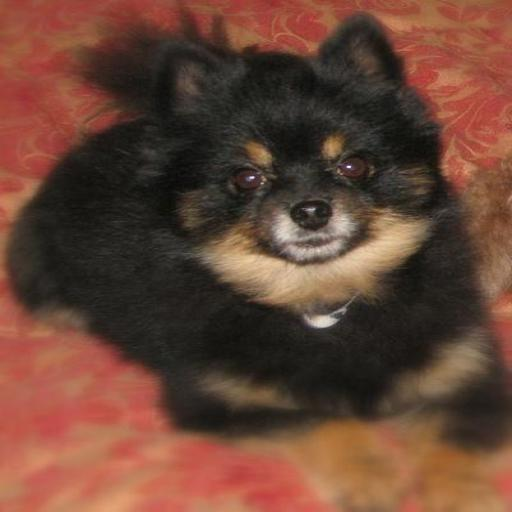dog_face: (157, 29, 429, 263)
